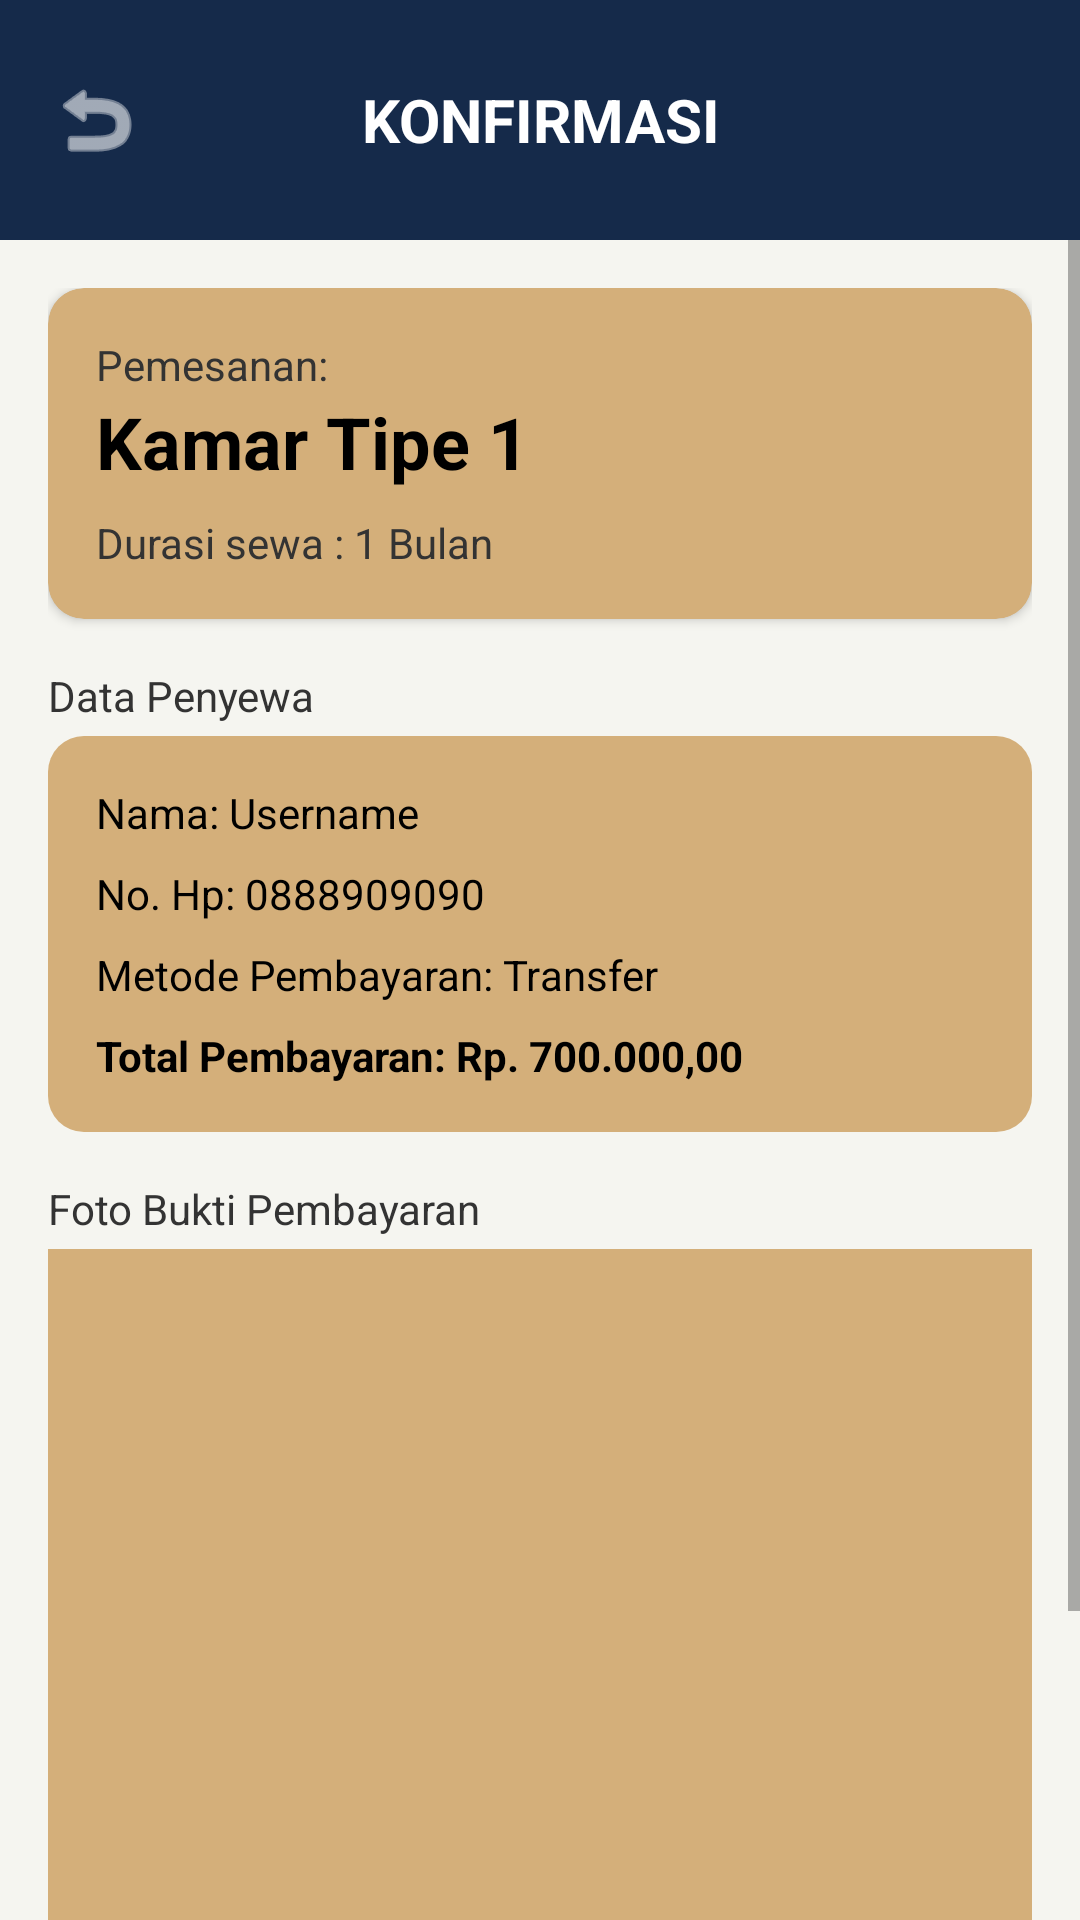

Screen size 1080px x 1920px. Icon name, then its box in pixels as (left=x1, top=y1, right=x2, bottom=y2):
revert: (left=63, top=89, right=132, bottom=152)
